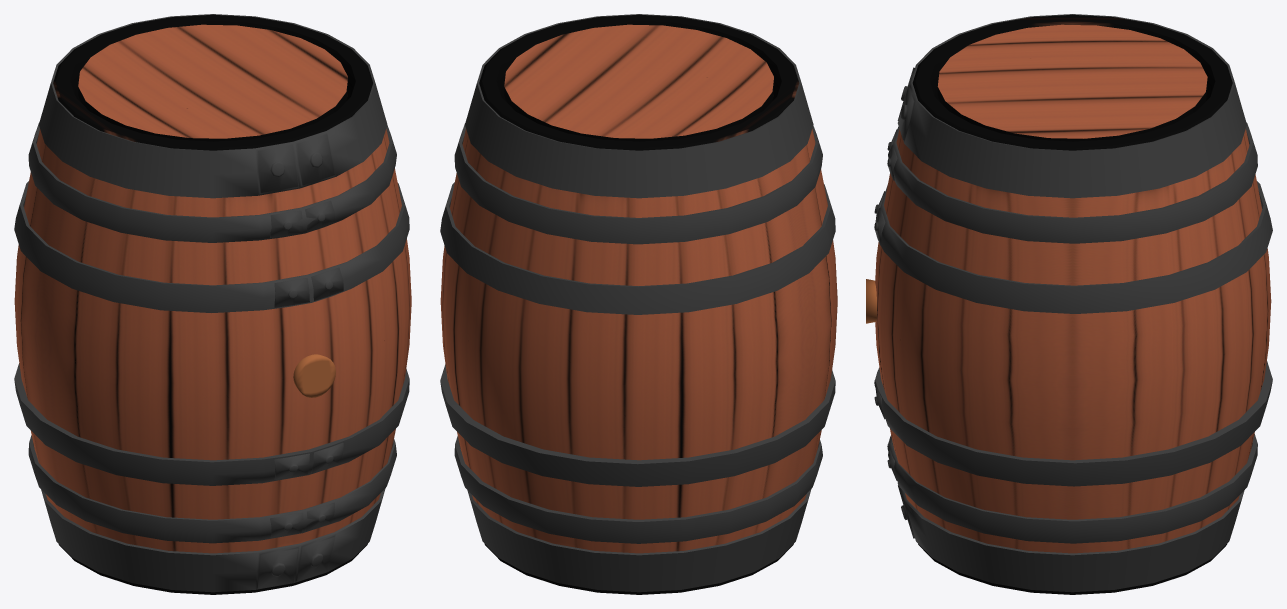
File: Barrel.glb
3 views of the same model, side by side, from view 1: azimuth 30°, elevation 25°; view 2: azimuth 150°, elevation 25°; view 3: azimuth 270°, elevation 25° (orthographic).
Parts seen in each view (by area): view 1: Cylinder; view 2: Cylinder; view 3: Cylinder.
Boxes of the visible parts, x1,y1,x2,y2 form: Cylinder: (14, 14, 411, 594); Cylinder: (440, 14, 837, 594); Cylinder: (866, 14, 1272, 594).
Bounding box in the file's own units: 0.6631 × 0.8221 × 0.6796.
Materials: 3 (1 with a texture image).
